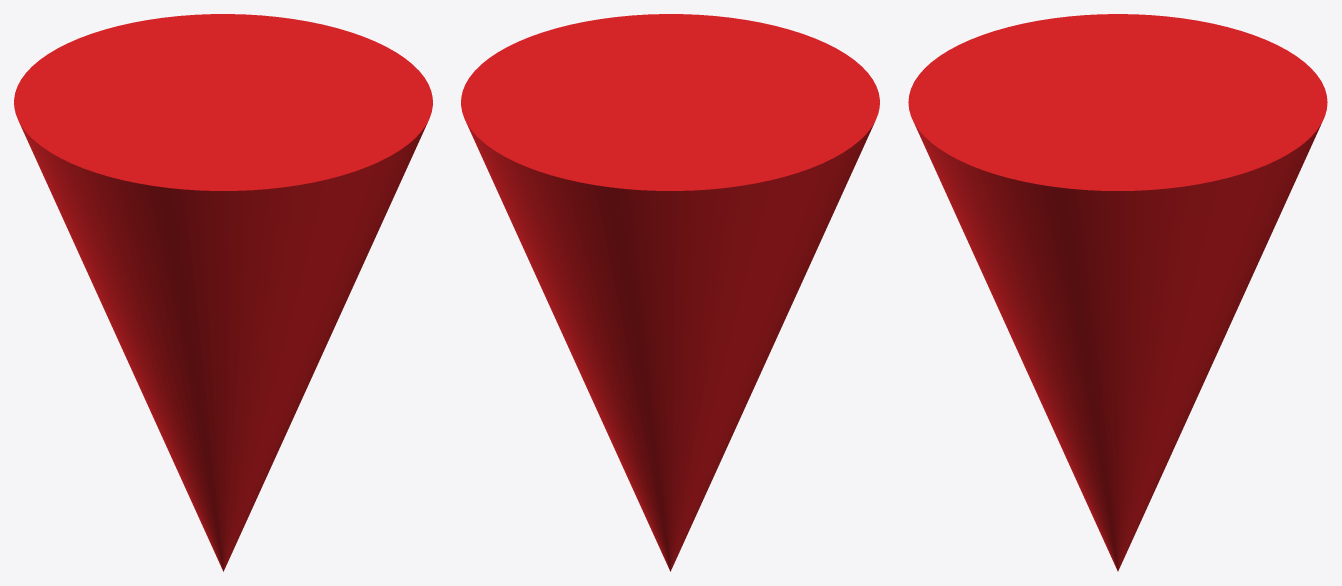
The model's file is pointer.fbx.
3 views of the same model, side by side, from view 1: azimuth 30°, elevation 25°; view 2: azimuth 150°, elevation 25°; view 3: azimuth 270°, elevation 25° (orthographic).
Parts seen in each view (by area): view 1: root; view 2: root; view 3: root.
Boxes of the visible parts, box(x1,y1,x2,y2) form: root: box(14, 14, 432, 571); root: box(461, 14, 879, 571); root: box(908, 14, 1327, 571).
Size of the model in its own units: 0.2941 by 0.3634 by 0.2941.
Materials: 1 (1 with a texture image).
